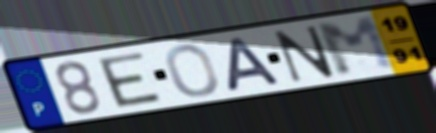8: (54, 59, 103, 116)
A: (224, 35, 285, 93)
E: (94, 50, 166, 109)
M: (312, 13, 402, 79)
N: (272, 23, 338, 84)
O: (163, 43, 222, 99)
